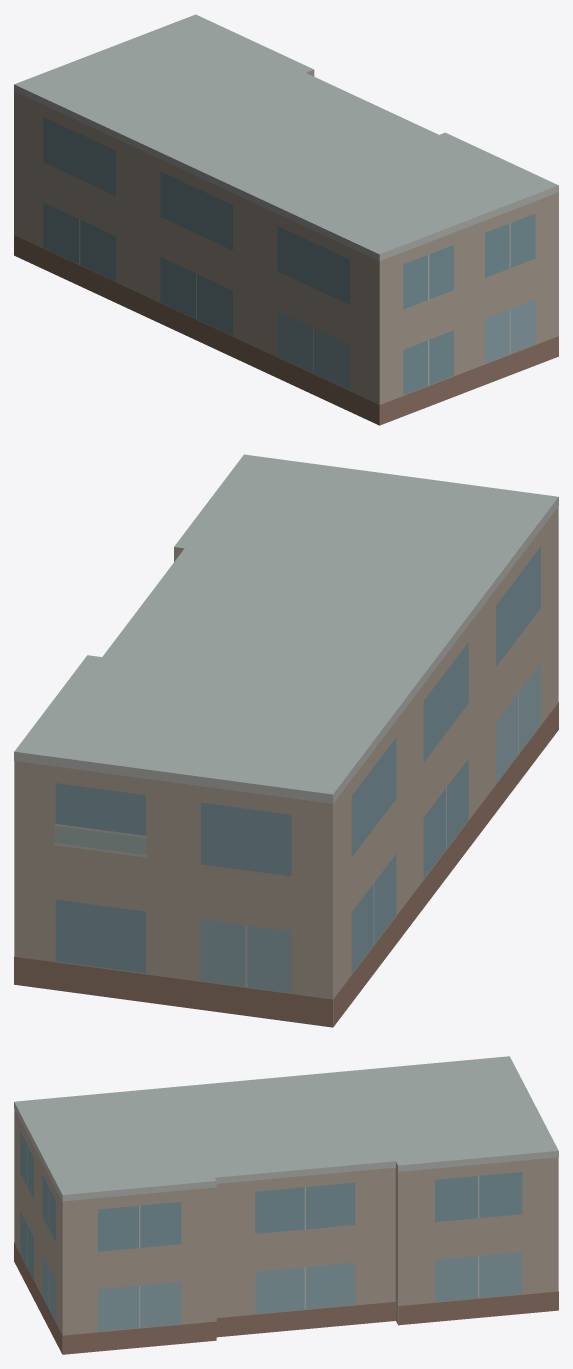
Rendered from survey-upis-32957806.glb.
The picture shows the model from 3 angles, top to bottom: view 1: azimuth 30°, elevation 25°; view 2: azimuth 150°, elevation 25°; view 3: azimuth 270°, elevation 25°; orthographic projection. The views are drawn at different scales.
Parts seen in each view (by area): view 1: survey-upis-32957806.tmp; view 2: survey-upis-32957806.tmp; view 3: survey-upis-32957806.tmp.
Part boxes in pixels (x1,y1,x2,y2): survey-upis-32957806.tmp: (14, 14, 558, 425); survey-upis-32957806.tmp: (14, 454, 558, 1027); survey-upis-32957806.tmp: (14, 1056, 558, 1354).
Bounding box in the file's own units: 11.39 × 6.1 × 18.87.
